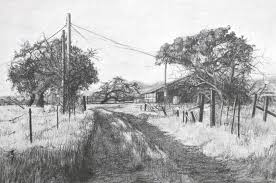field: (4, 105, 274, 181)
tree: (162, 25, 258, 135), (14, 30, 99, 113)
